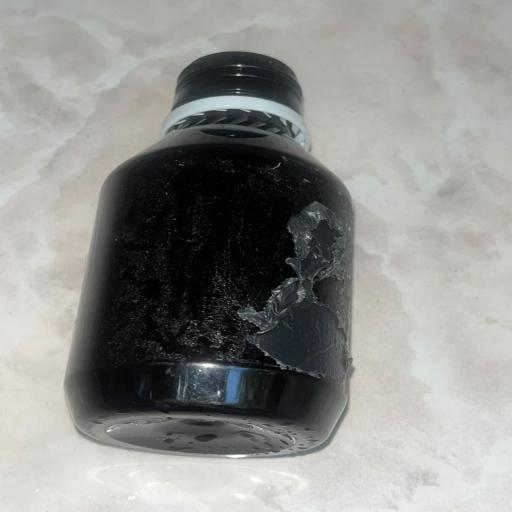HDPE: (62, 26, 418, 512)
